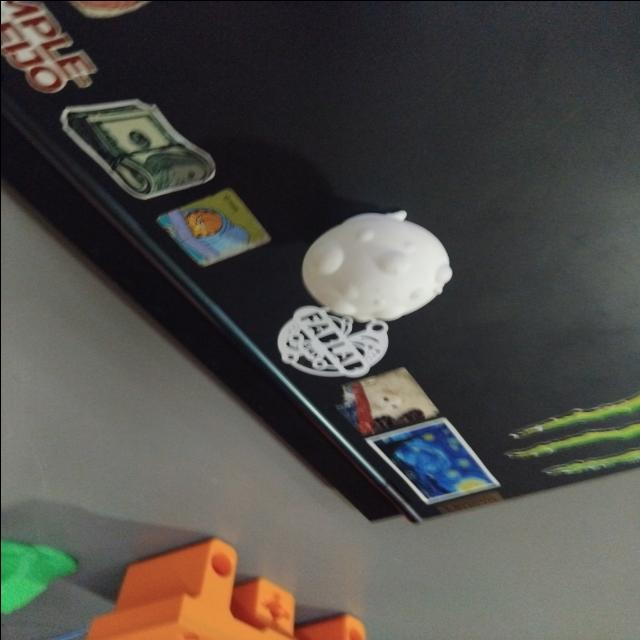Hongo: (287, 198, 463, 326)
